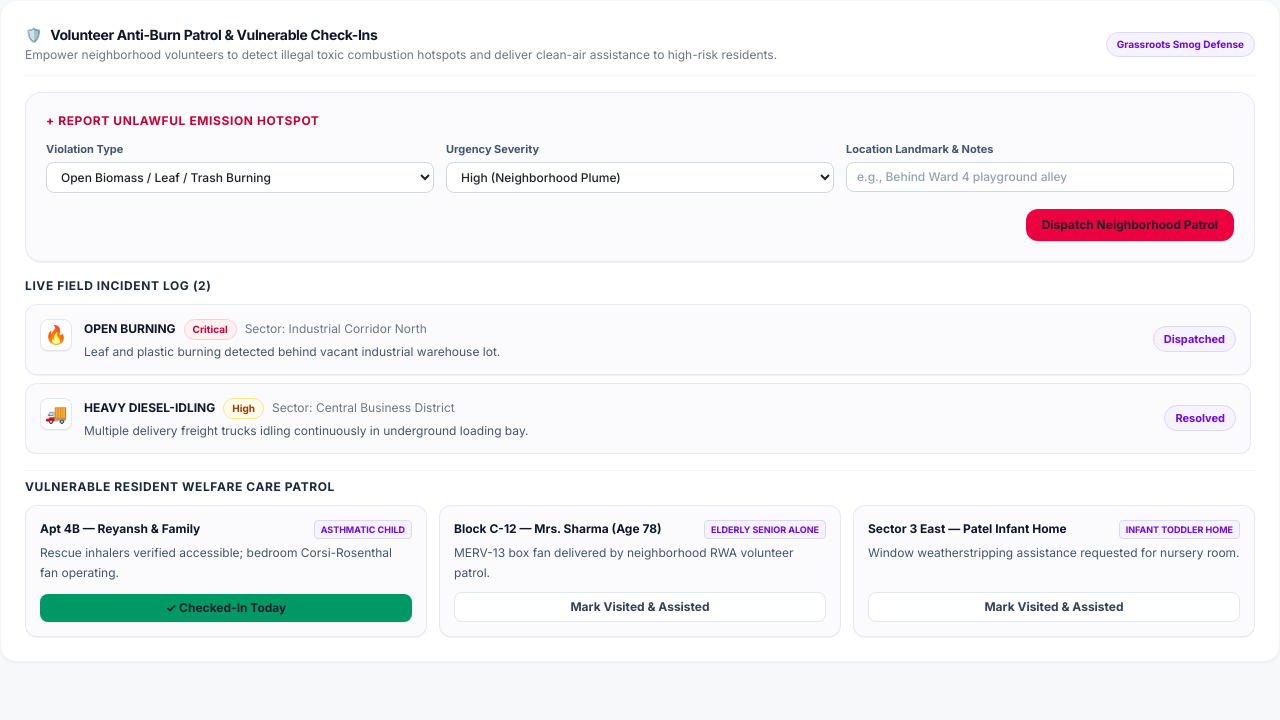
VolunteerWatch interactions › logs a new illegal burning incident
Type "Dense garbage burning near railway crossing" into the field with placeholder "e.g., Behind Ward 4 playground alley" at x=1040, y=176, box x1=846 y1=162 x2=1234 y2=192
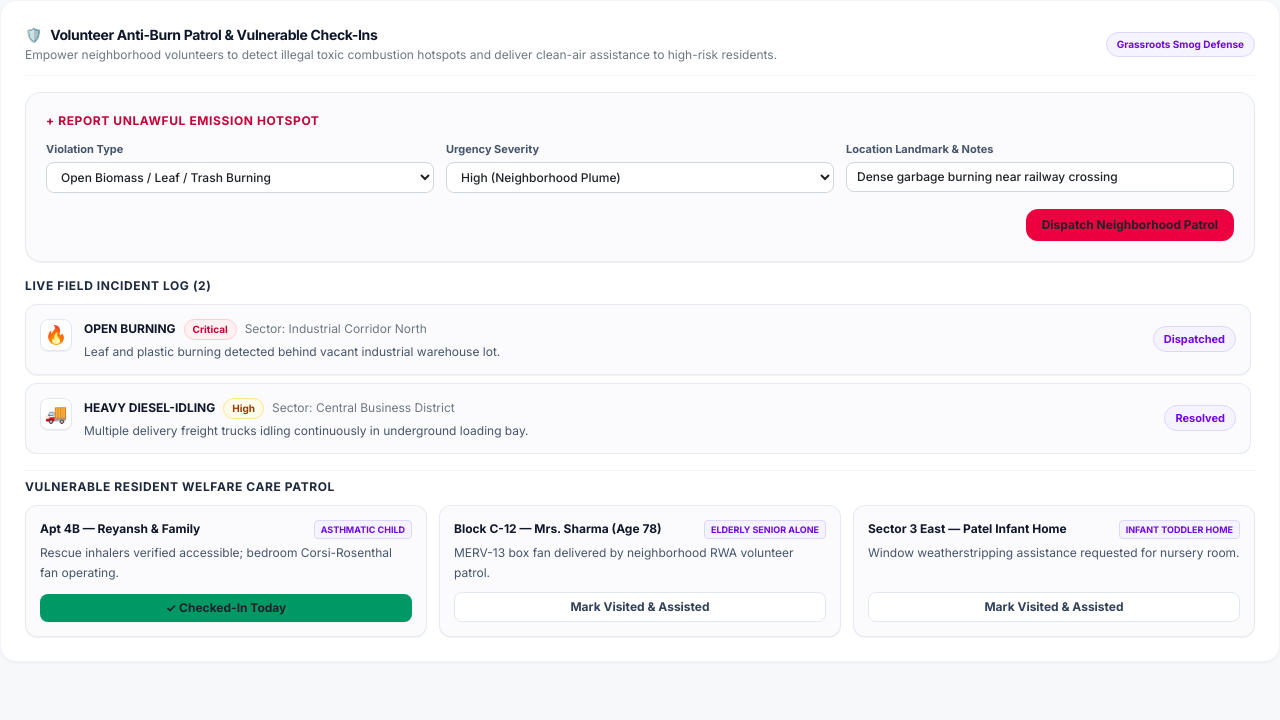
Click the button "Dispatch Neighborhood Patrol" at x=1130, y=224, box x1=1026 y1=208 x2=1234 y2=240
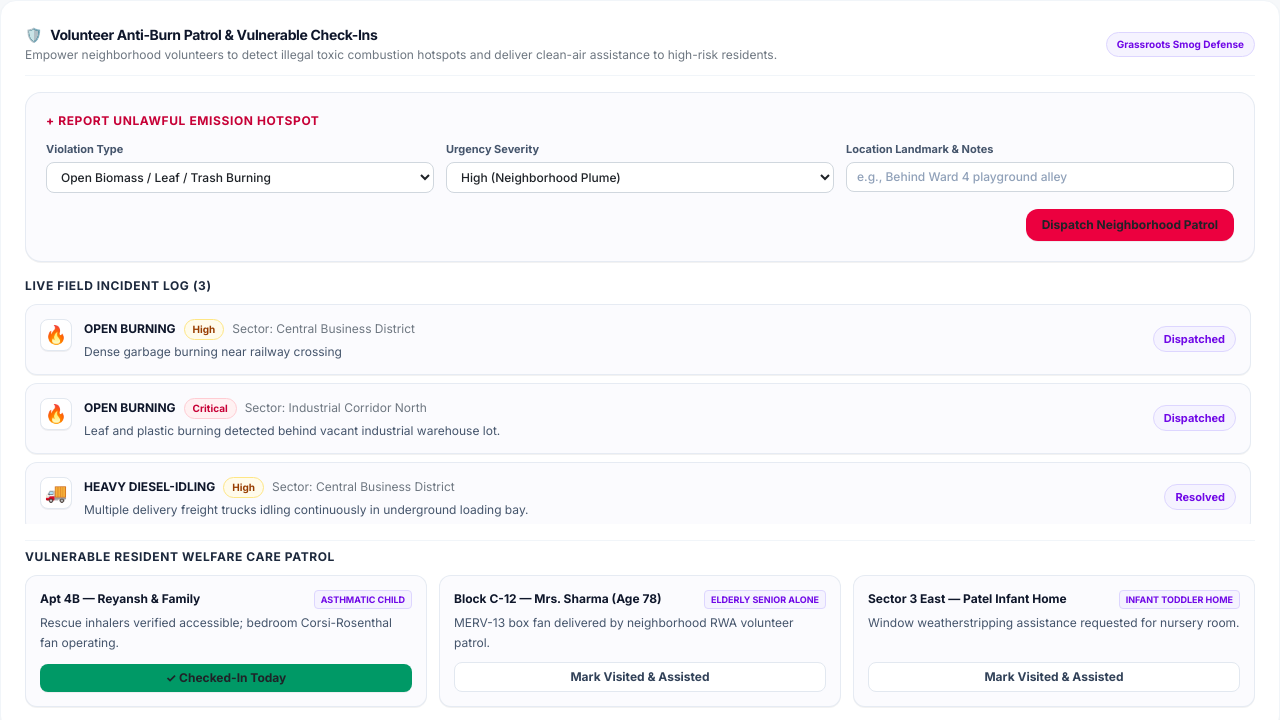
Check: the text "Dense garbage burning near railway crossing" is shown, box x1=84 y1=344 x2=342 y2=358
